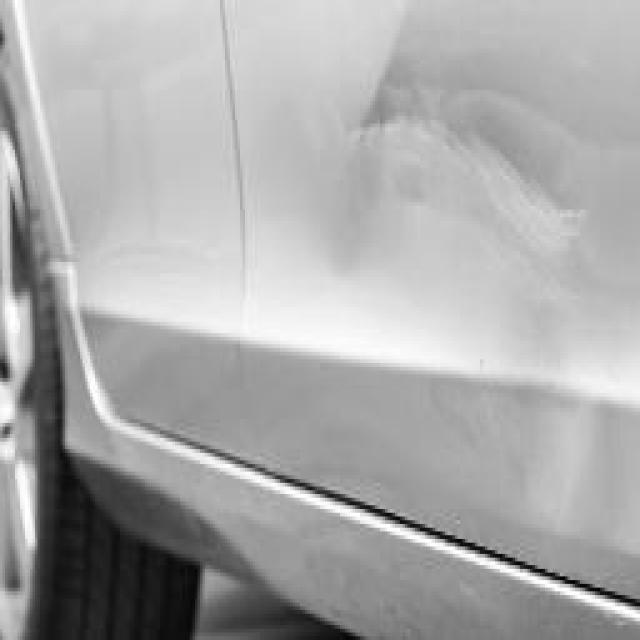Door: (308, 7, 640, 359)
